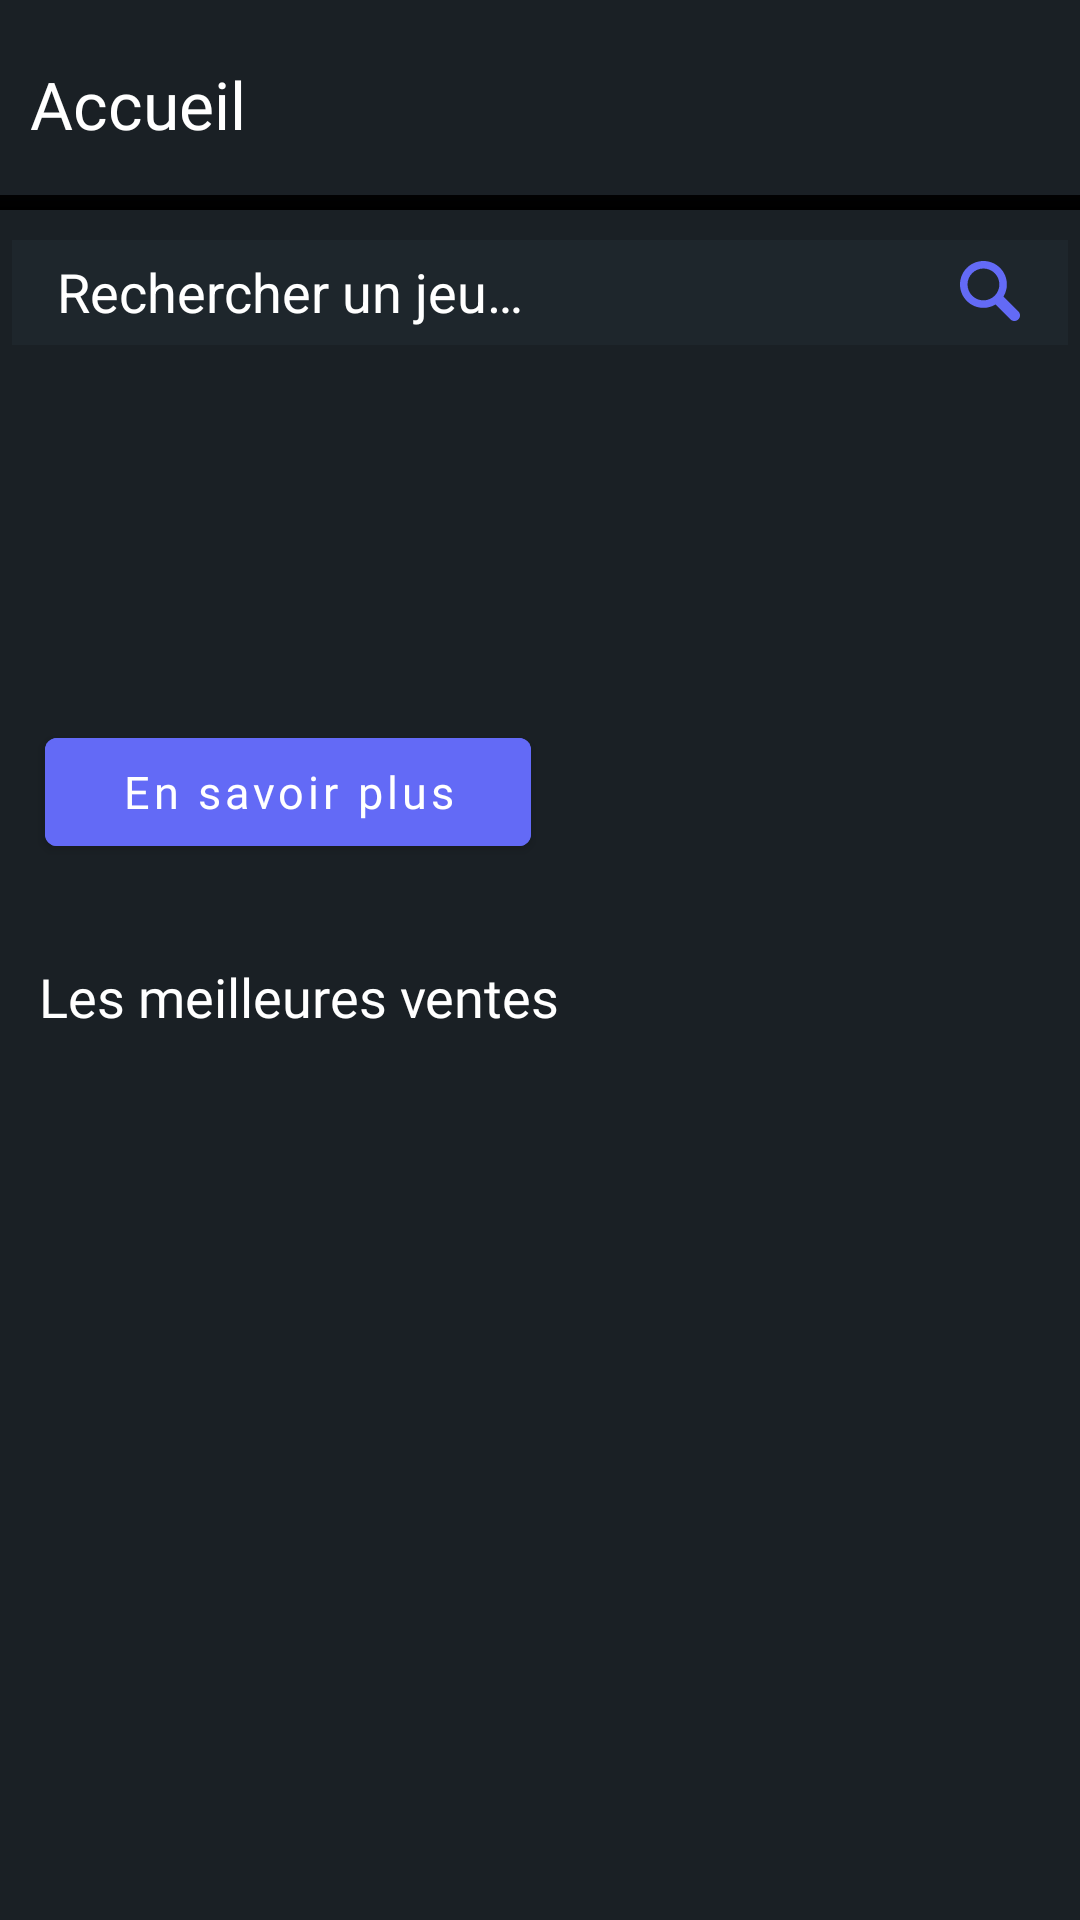

Locate icon controls on the screen. Image size 1080*1920, boxes as (x1, y1, x2, y2).
search: (960, 261, 1020, 321)
